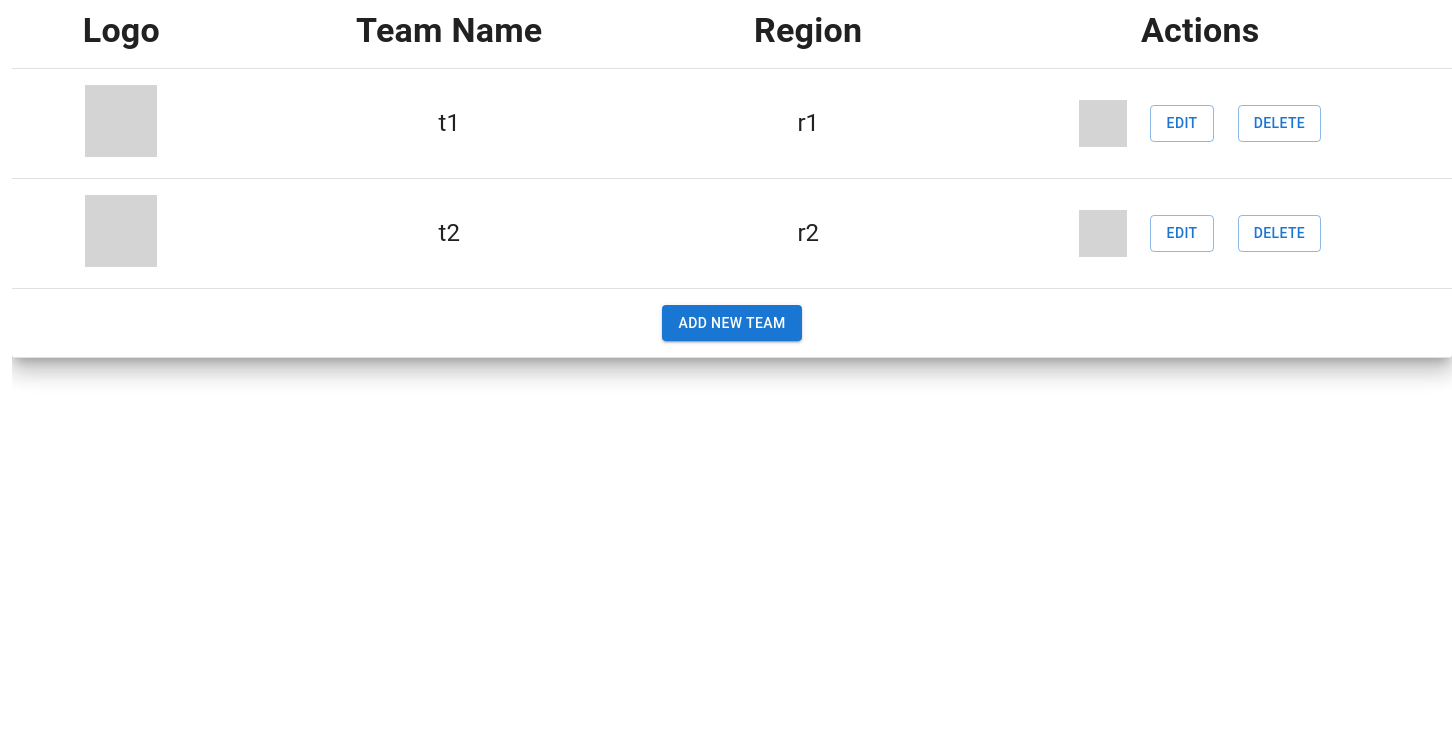
Test: TeamTable tests › test add new team form subcomponent
// click on the button
Click the button "Add new team" at (732, 323), box [662, 305, 802, 341]
(page scrolled)
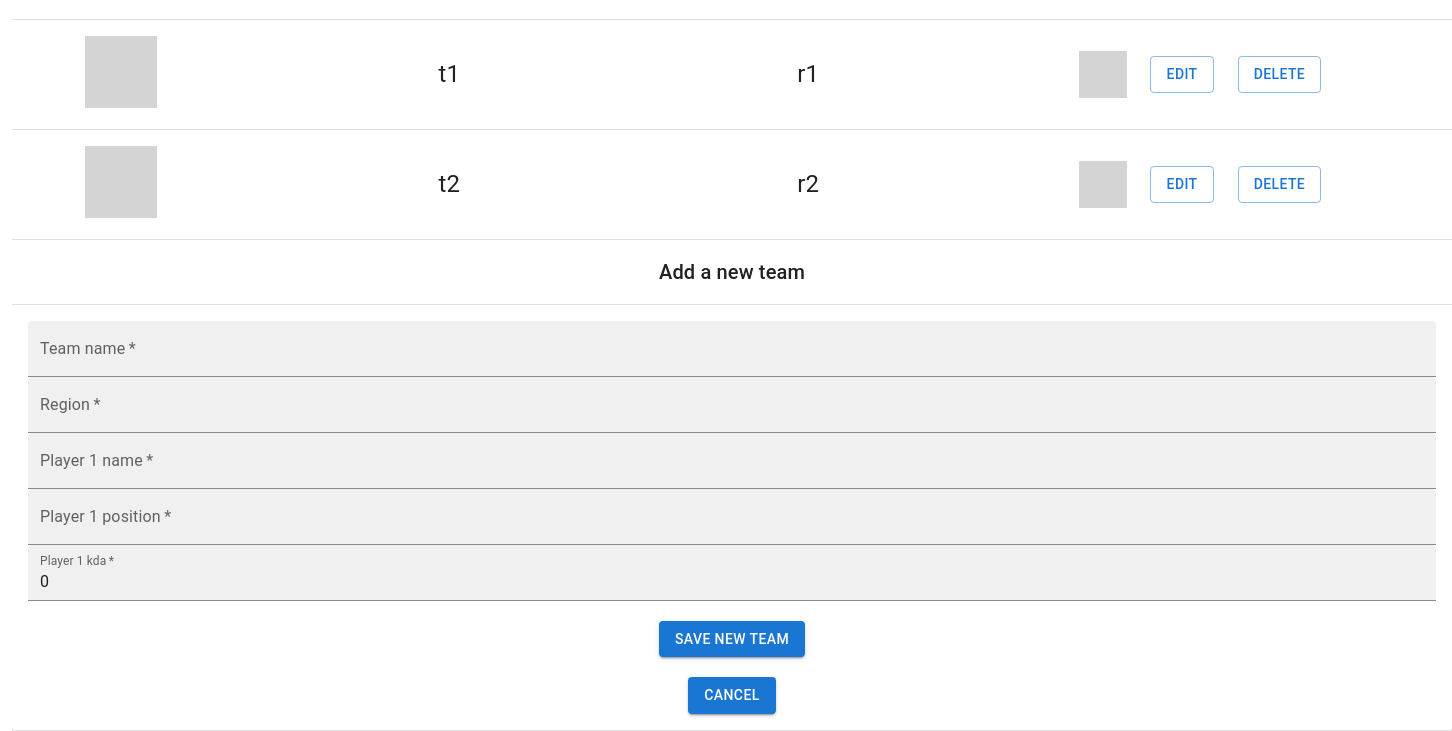
expect the heading "Add a new team" is shown: met, box [659, 260, 805, 284]
expect the button "Save new team" is shown: met, box [659, 621, 805, 657]
expect the button "Cancel" is shown: met, box [688, 677, 776, 714]
